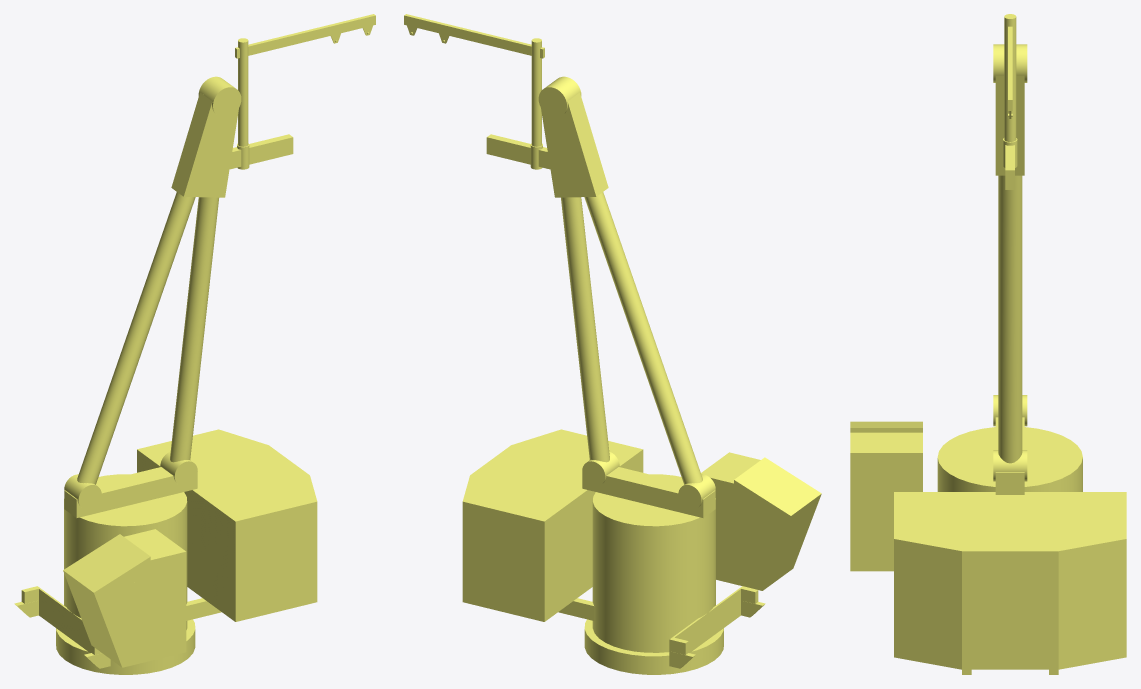
File: Image-1711348148126-2280942136352_73-MA50.fbx
The picture shows the model from 3 angles, left to right: view 1: azimuth 30°, elevation 25°; view 2: azimuth 150°, elevation 25°; view 3: azimuth 270°, elevation 25°; orthographic projection. The views are drawn at different scales.
Parts seen in each view (by area): view 1: BOX 8 of SUBEQUIPMENT 61 of EQUIPMENT /73-MA50, SNOUT 1 of SUBEQUIPMENT 61 of EQUIPMENT /73-MA50, BOX 4 of SUBEQUIPMENT 61 of EQUIPMENT /73-MA50, SNOUT 2 of SUBEQUIPMENT 61 of EQUIPMENT /73-MA50, CYLINDER 2 of SUBEQUIPMENT 61 of EQUIPMENT /73-MA50, BOX 5 of SUBEQUIPMENT 61 of EQUIPMENT /73-MA50, PYRAMID 5 of SUBEQUIPMENT 61 of EQUIPMENT /73-MA50, PYRAMID 6 of SUBEQUIPMENT 61 of EQUIPMENT /73-MA50, PYRAMID 4 of SUBEQUIPMENT 61 of EQUIPMENT /73-MA50, BOX 11 of SUBEQUIPMENT 61 of EQUIPMENT /73-MA50, BOX 6 of SUBEQUIPMENT 61 of EQUIPMENT /73-MA50, CYLINDER 1 of SUBEQUIPMENT 61 of EQUIPMENT /73-MA50 (+8 smaller); view 2: CYLINDER 2 of SUBEQUIPMENT 61 of EQUIPMENT /73-MA50, BOX 7 of SUBEQUIPMENT 61 of EQUIPMENT /73-MA50, SNOUT 1 of SUBEQUIPMENT 61 of EQUIPMENT /73-MA50, BOX 4 of SUBEQUIPMENT 61 of EQUIPMENT /73-MA50, SNOUT 2 of SUBEQUIPMENT 61 of EQUIPMENT /73-MA50, PYRAMID 5 of SUBEQUIPMENT 61 of EQUIPMENT /73-MA50, PYRAMID 6 of SUBEQUIPMENT 61 of EQUIPMENT /73-MA50, CYLINDER 1 of SUBEQUIPMENT 61 of EQUIPMENT /73-MA50, BOX 11 of SUBEQUIPMENT 61 of EQUIPMENT /73-MA50, PYRAMID 4 of SUBEQUIPMENT 61 of EQUIPMENT /73-MA50, BOX 5 of SUBEQUIPMENT 61 of EQUIPMENT /73-MA50, BOX 6 of SUBEQUIPMENT 61 of EQUIPMENT /73-MA50 (+8 smaller); view 3: BOX 4 of SUBEQUIPMENT 61 of EQUIPMENT /73-MA50, PYRAMID 3 of SUBEQUIPMENT 61 of EQUIPMENT /73-MA50, PYRAMID 7 of SUBEQUIPMENT 61 of EQUIPMENT /73-MA50, BOX 5 of SUBEQUIPMENT 61 of EQUIPMENT /73-MA50, SNOUT 2 of SUBEQUIPMENT 61 of EQUIPMENT /73-MA50, CYLINDER 2 of SUBEQUIPMENT 61 of EQUIPMENT /73-MA50, BOX 7 of SUBEQUIPMENT 61 of EQUIPMENT /73-MA50, BOX 8 of SUBEQUIPMENT 61 of EQUIPMENT /73-MA50, PYRAMID 5 of SUBEQUIPMENT 61 of EQUIPMENT /73-MA50, CYLINDER 7 of SUBEQUIPMENT 61 of EQUIPMENT /73-MA50, BOX 11 of SUBEQUIPMENT 61 of EQUIPMENT /73-MA50, PYRAMID 6 of SUBEQUIPMENT 61 of EQUIPMENT /73-MA50 (+4 smaller).
Part boxes in pixels (left/top/right/bottom): BOX 8 of SUBEQUIPMENT 61 of EQUIPMENT /73-MA50: left=206, top=480, right=317, bottom=621; SNOUT 1 of SUBEQUIPMENT 61 of EQUIPMENT /73-MA50: left=77, top=192, right=195, bottom=484; BOX 4 of SUBEQUIPMENT 61 of EQUIPMENT /73-MA50: left=184, top=445, right=309, bottom=600; SNOUT 2 of SUBEQUIPMENT 61 of EQUIPMENT /73-MA50: left=170, top=197, right=218, bottom=462; CYLINDER 2 of SUBEQUIPMENT 61 of EQUIPMENT /73-MA50: left=64, top=474, right=187, bottom=629; BOX 5 of SUBEQUIPMENT 61 of EQUIPMENT /73-MA50: left=124, top=529, right=186, bottom=660; PYRAMID 5 of SUBEQUIPMENT 61 of EQUIPMENT /73-MA50: left=171, top=92, right=238, bottom=197; PYRAMID 6 of SUBEQUIPMENT 61 of EQUIPMENT /73-MA50: left=63, top=534, right=150, bottom=592; PYRAMID 4 of SUBEQUIPMENT 61 of EQUIPMENT /73-MA50: left=63, top=570, right=122, bottom=667; BOX 11 of SUBEQUIPMENT 61 of EQUIPMENT /73-MA50: left=64, top=467, right=197, bottom=517; BOX 6 of SUBEQUIPMENT 61 of EQUIPMENT /73-MA50: left=122, top=579, right=150, bottom=667; CYLINDER 1 of SUBEQUIPMENT 61 of EQUIPMENT /73-MA50: left=56, top=619, right=195, bottom=674; CYLINDER 2 of SUBEQUIPMENT 61 of EQUIPMENT /73-MA50: left=592, top=474, right=715, bottom=652; BOX 7 of SUBEQUIPMENT 61 of EQUIPMENT /73-MA50: left=462, top=480, right=573, bottom=621; SNOUT 1 of SUBEQUIPMENT 61 of EQUIPMENT /73-MA50: left=584, top=192, right=702, bottom=484; BOX 4 of SUBEQUIPMENT 61 of EQUIPMENT /73-MA50: left=470, top=445, right=595, bottom=600; SNOUT 2 of SUBEQUIPMENT 61 of EQUIPMENT /73-MA50: left=561, top=197, right=609, bottom=462; PYRAMID 5 of SUBEQUIPMENT 61 of EQUIPMENT /73-MA50: left=541, top=92, right=608, bottom=197; PYRAMID 6 of SUBEQUIPMENT 61 of EQUIPMENT /73-MA50: left=734, top=457, right=821, bottom=515; CYLINDER 1 of SUBEQUIPMENT 61 of EQUIPMENT /73-MA50: left=584, top=619, right=723, bottom=674; BOX 11 of SUBEQUIPMENT 61 of EQUIPMENT /73-MA50: left=582, top=467, right=715, bottom=517; PYRAMID 4 of SUBEQUIPMENT 61 of EQUIPMENT /73-MA50: left=762, top=494, right=821, bottom=590; BOX 5 of SUBEQUIPMENT 61 of EQUIPMENT /73-MA50: left=701, top=452, right=760, bottom=583; BOX 6 of SUBEQUIPMENT 61 of EQUIPMENT /73-MA50: left=734, top=502, right=762, bottom=590; BOX 4 of SUBEQUIPMENT 61 of EQUIPMENT /73-MA50: left=962, top=492, right=1058, bottom=669; PYRAMID 3 of SUBEQUIPMENT 61 of EQUIPMENT /73-MA50: left=1058, top=539, right=1126, bottom=669; PYRAMID 7 of SUBEQUIPMENT 61 of EQUIPMENT /73-MA50: left=894, top=539, right=961, bottom=669; BOX 5 of SUBEQUIPMENT 61 of EQUIPMENT /73-MA50: left=850, top=432, right=922, bottom=571; SNOUT 2 of SUBEQUIPMENT 61 of EQUIPMENT /73-MA50: left=998, top=175, right=1022, bottom=463; CYLINDER 2 of SUBEQUIPMENT 61 of EQUIPMENT /73-MA50: left=937, top=427, right=1082, bottom=491; BOX 7 of SUBEQUIPMENT 61 of EQUIPMENT /73-MA50: left=1058, top=492, right=1126, bottom=538; BOX 8 of SUBEQUIPMENT 61 of EQUIPMENT /73-MA50: left=894, top=492, right=961, bottom=538; PYRAMID 5 of SUBEQUIPMENT 61 of EQUIPMENT /73-MA50: left=995, top=75, right=1024, bottom=175; CYLINDER 7 of SUBEQUIPMENT 61 of EQUIPMENT /73-MA50: left=1004, top=14, right=1016, bottom=141; BOX 11 of SUBEQUIPMENT 61 of EQUIPMENT /73-MA50: left=995, top=417, right=1024, bottom=494; PYRAMID 6 of SUBEQUIPMENT 61 of EQUIPMENT /73-MA50: left=850, top=421, right=922, bottom=432.
Bounding box in the file's own units: 9.8 × 5.7 × 15.53.
